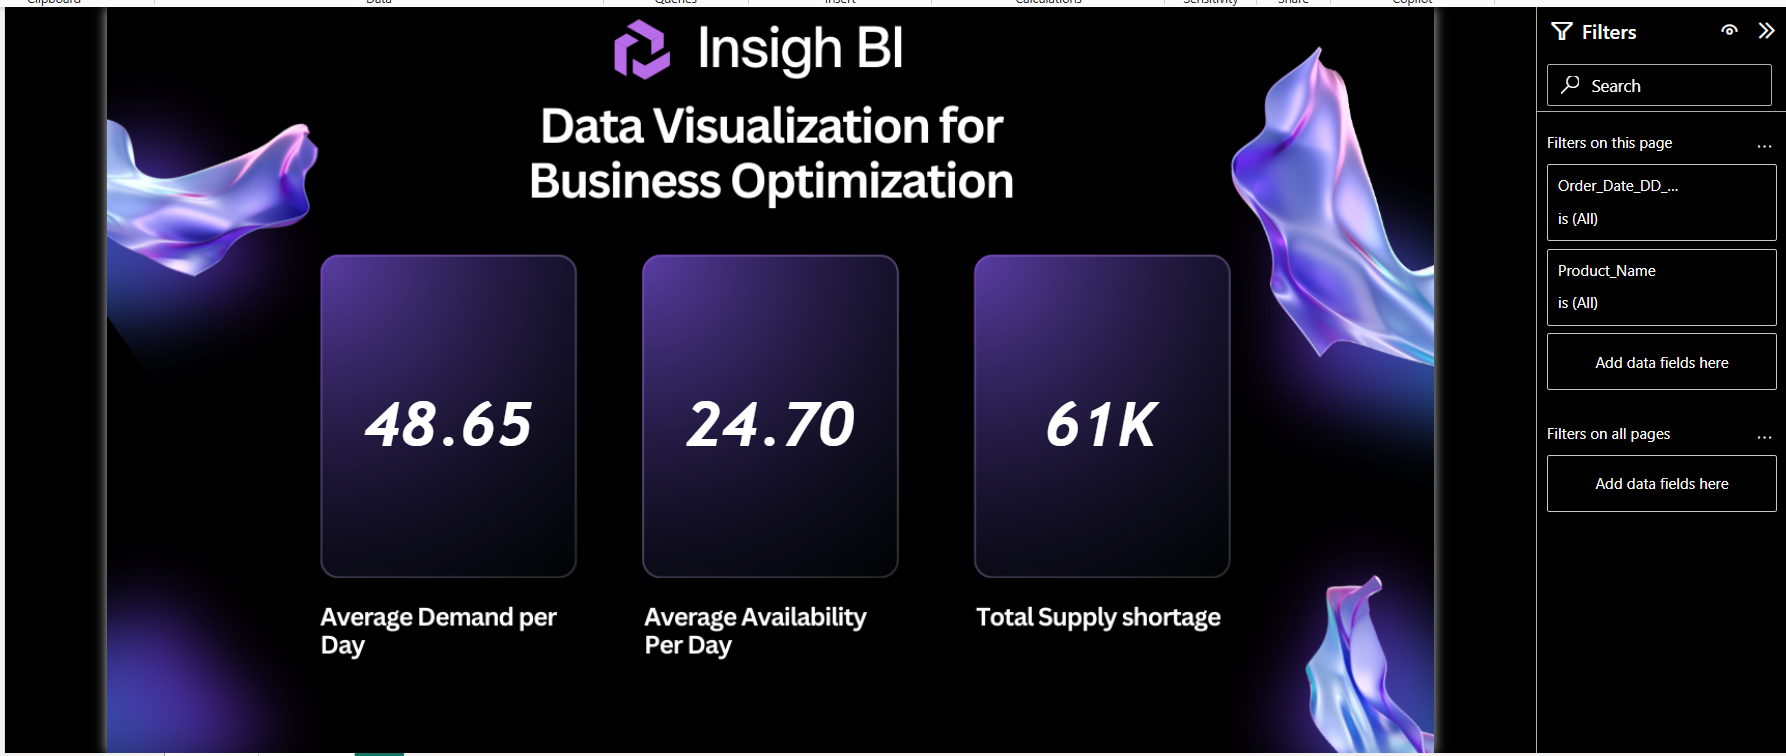

Layout of this report page (visuals, bound fields, positions):
{"tool":"powerbi","page":{"name":"Page 1","canvas":[1280,720],"ordinal":0},"visuals":[{"type":"card","fields":{"Values":["Measures Table.Average Demand Per Day"]},"box":[215.4,288.2,227.8,219.6],"z":0},{"type":"card","fields":{"Values":["Measures Table.Average Availability Per Day"]},"box":[525.6,288.2,227.8,219.6],"z":1},{"type":"card","fields":{"Values":["Measures Table.Total Supply Shortage"]},"box":[845.3,288.2,227.8,219.6],"z":2}]}

Visuals, with their boxes on the page's 1280x720 design canvas (x1, y1, x2, y2). These are canvas units, not pixel positions in the 1786x756 screenshot, which may show the page scaled, cropped or inside an application window:
card - Measures Table.Average Demand Per Day: x1=215 y1=288 x2=443 y2=508
card - Measures Table.Average Availability Per Day: x1=526 y1=288 x2=753 y2=508
card - Measures Table.Total Supply Shortage: x1=845 y1=288 x2=1073 y2=508
